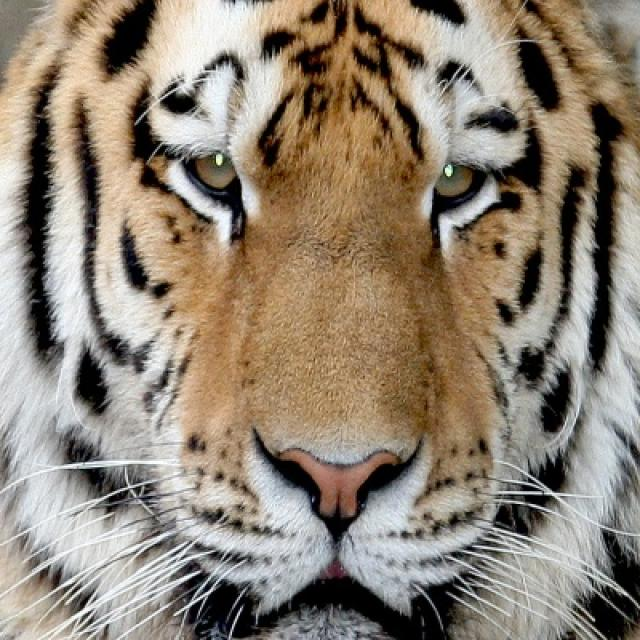Tiger: (0, 2, 638, 638)
